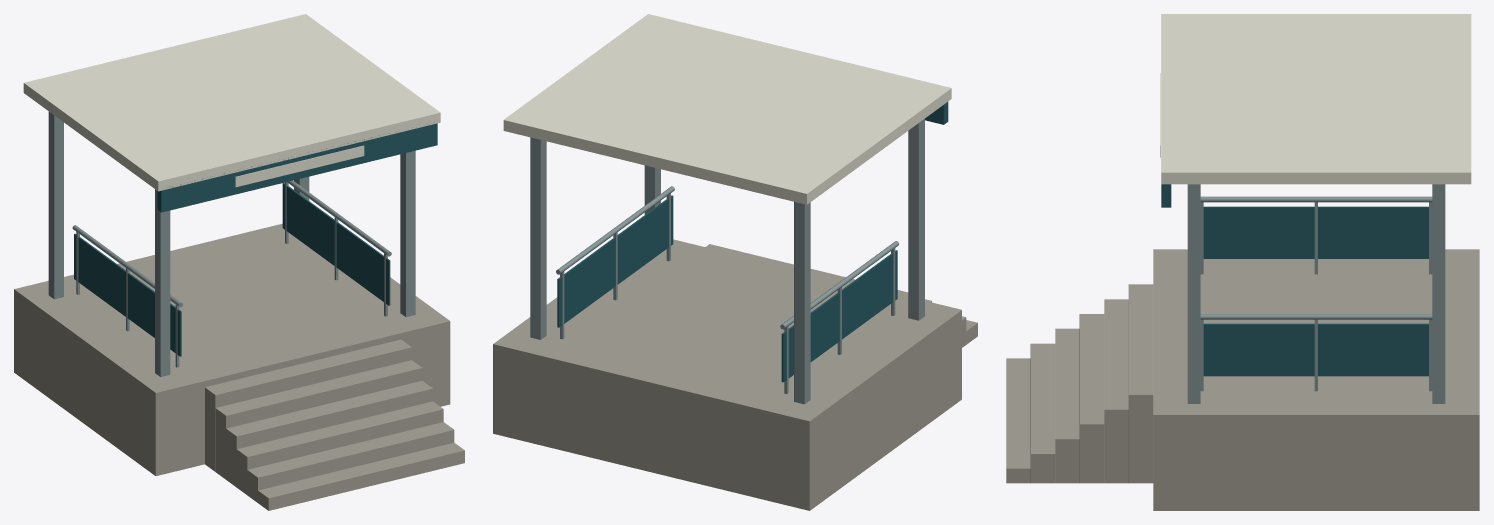
The model's file is mrt_entrance.glb.
3 views of the same model, side by side, from view 1: azimuth 30°, elevation 25°; view 2: azimuth 150°, elevation 25°; view 3: azimuth 270°, elevation 25° (orthographic). The views are drawn at different scales.
Visible parts, largest first — view 1: mrt_entrance; view 2: mrt_entrance; view 3: mrt_entrance.
Boxes of the visible parts, left/top/right/bottom form: mrt_entrance: left=14, top=14, right=464, bottom=510; mrt_entrance: left=493, top=14, right=977, bottom=510; mrt_entrance: left=1006, top=14, right=1479, bottom=510.
Bounding box in the file's own units: 4.8 × 4.53 × 5.8.
